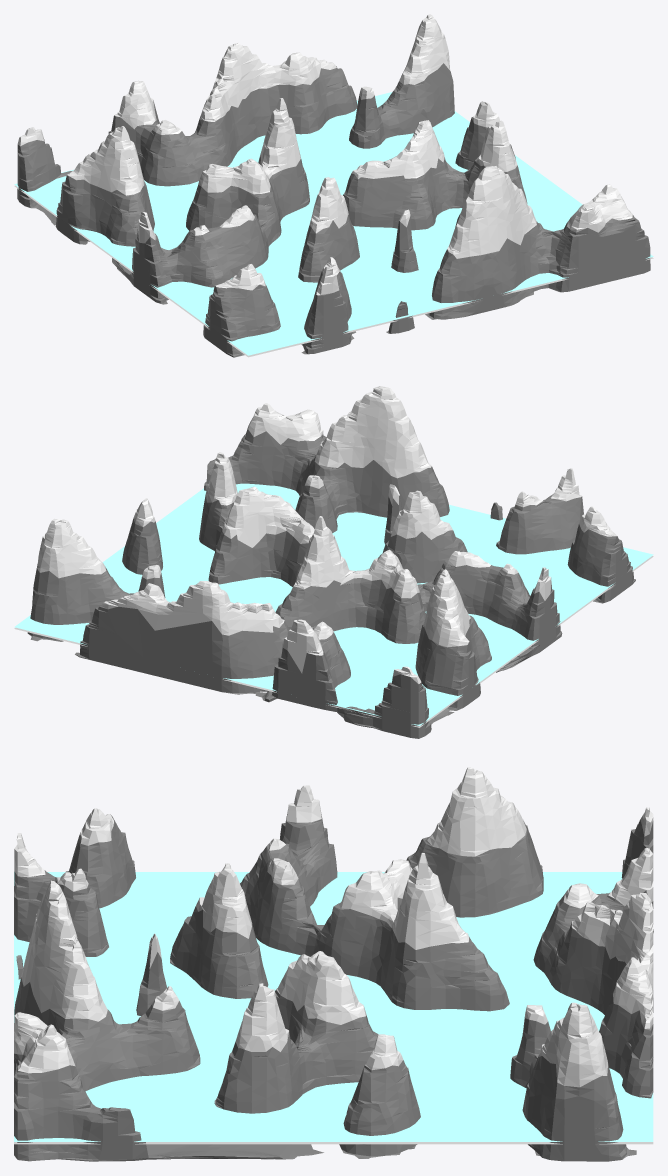
File: MountainLevel.fbx
3 views of the same model, one above another, from view 1: azimuth 30°, elevation 25°; view 2: azimuth 150°, elevation 25°; view 3: azimuth 270°, elevation 25° (orthographic). The views are drawn at different scales.
Parts seen in each view (by area): view 1: Mountains, Water, Plane.001; view 2: Mountains, Water, Plane.001; view 3: Mountains, Water, Plane.001.
Boxes of the visible parts, x1,y1,x2,y2 form: Mountains: (17, 14, 650, 357); Water: (14, 92, 653, 355); Plane.001: (14, 185, 653, 357); Mountains: (27, 386, 635, 738); Water: (14, 483, 653, 725); Plane.001: (14, 556, 653, 727); Mountains: (14, 767, 653, 1161); Water: (14, 872, 653, 1141); Plane.001: (14, 1142, 653, 1144).
Size of the model in its own units: 7504 by 2300 by 7510.
